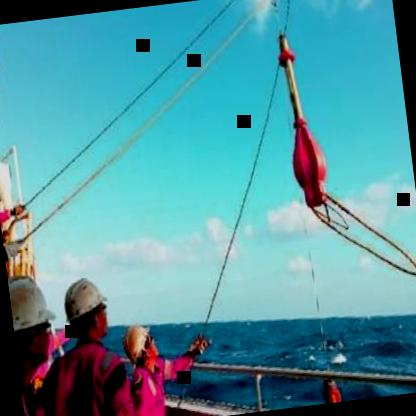helmet: (6, 266, 60, 371), (56, 270, 114, 350), (118, 320, 159, 371)
